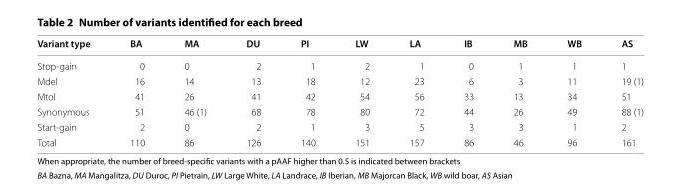table: (36, 36, 642, 147)
table column: (36, 36, 109, 147), (163, 36, 225, 147), (225, 36, 280, 147), (388, 36, 443, 147), (109, 36, 163, 147), (280, 36, 334, 147), (334, 36, 388, 147), (492, 36, 546, 147), (546, 36, 600, 147), (443, 36, 492, 147), (600, 36, 642, 147)
table column header: (36, 36, 642, 54)
table row: (36, 54, 642, 73), (36, 36, 642, 54), (36, 103, 642, 119), (36, 73, 642, 88), (36, 88, 642, 103), (36, 119, 642, 134), (36, 134, 642, 147)
